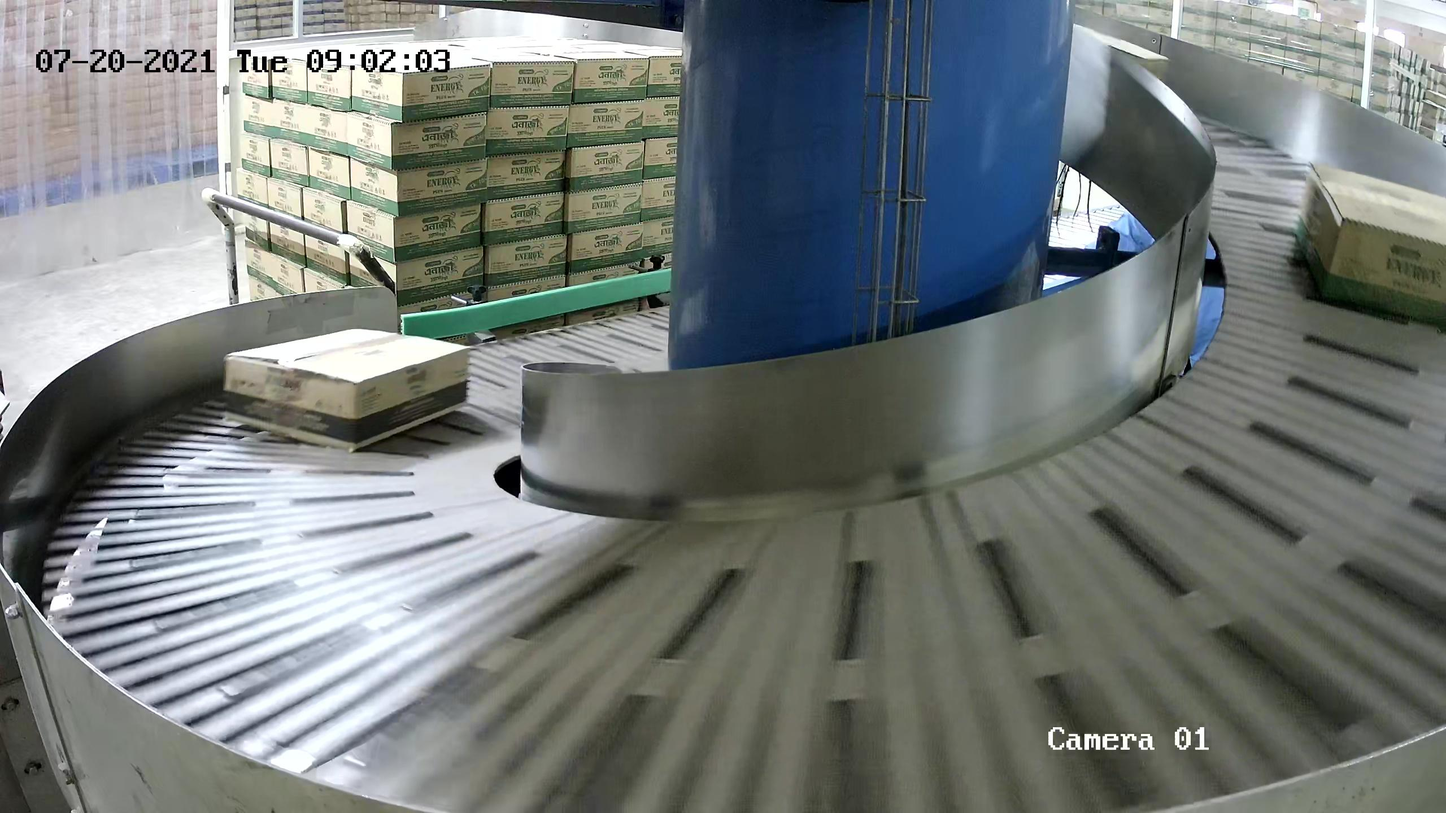Box: (220, 326, 472, 453), (1290, 160, 1446, 329)
